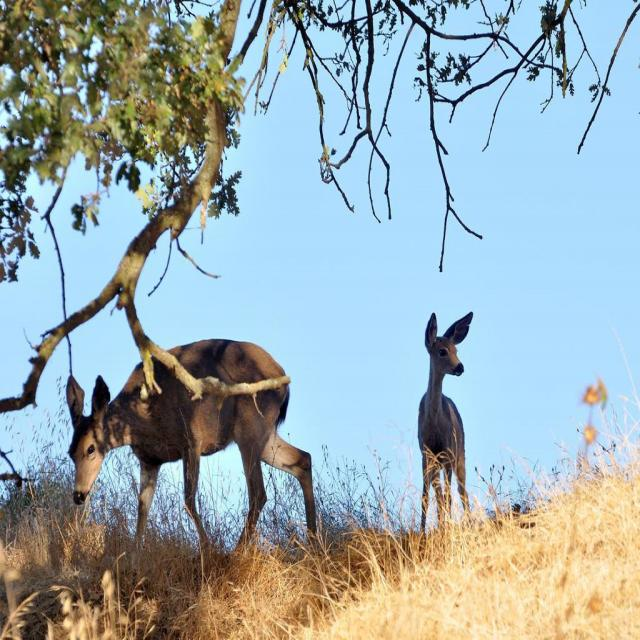Deer: (66, 336, 314, 546), (417, 310, 472, 536)
